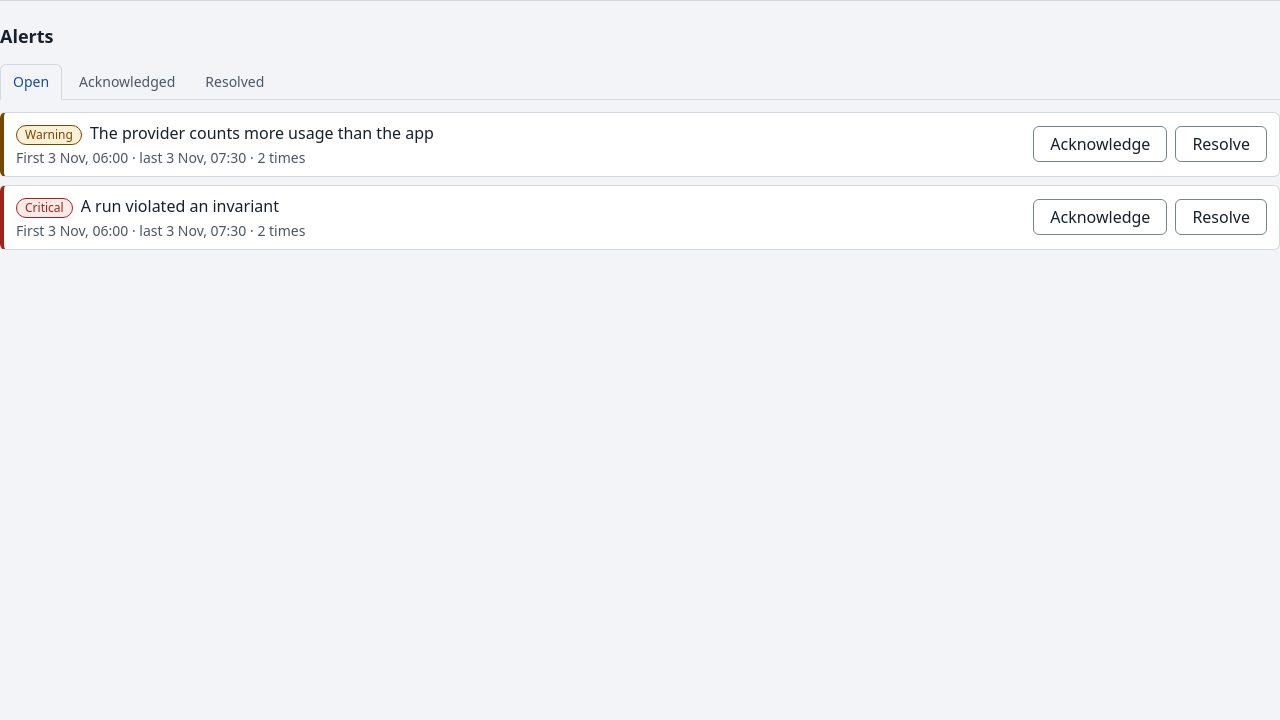
Test case: AlertsList › an acknowledged or resolved alert hands the focus to the alerts' heading, as its buttons have gone
Click the button "Acknowledge" in the row of "Warning": x=1100, y=144 x1=1033 y1=126 x2=1167 y2=162
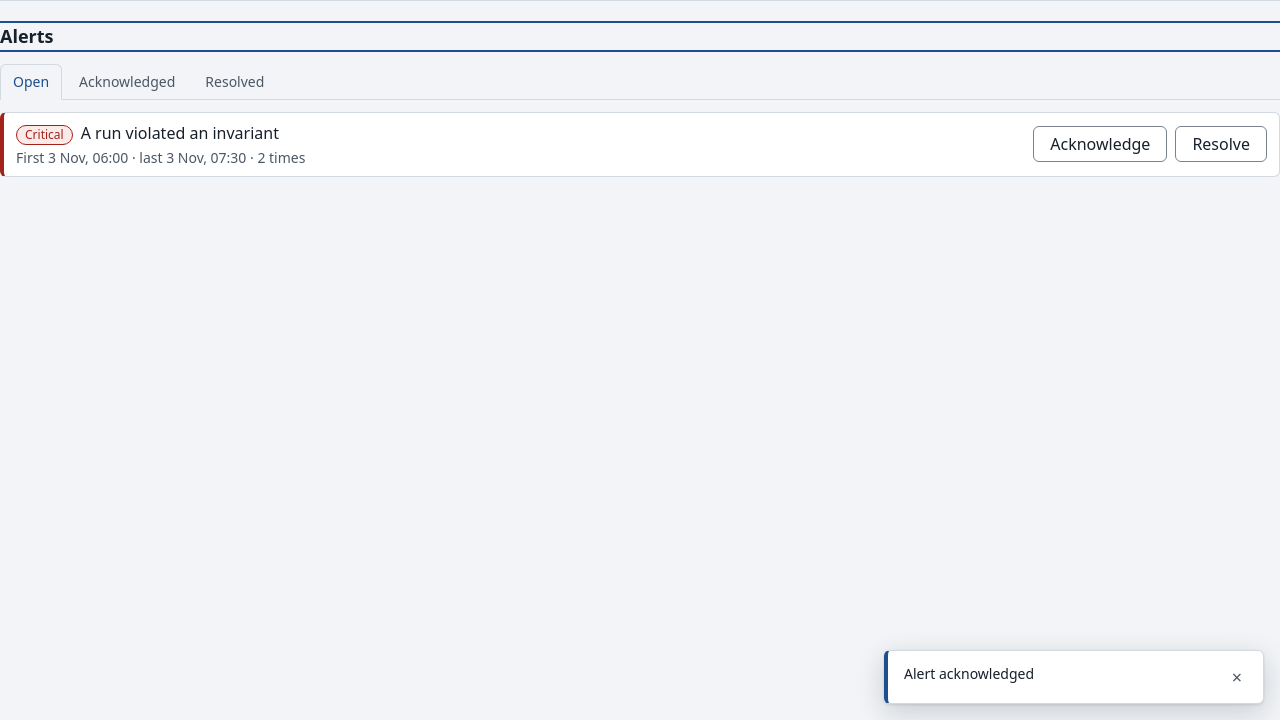
Click the button "Resolve": x=1221, y=144 x1=1175 y1=126 x2=1267 y2=162
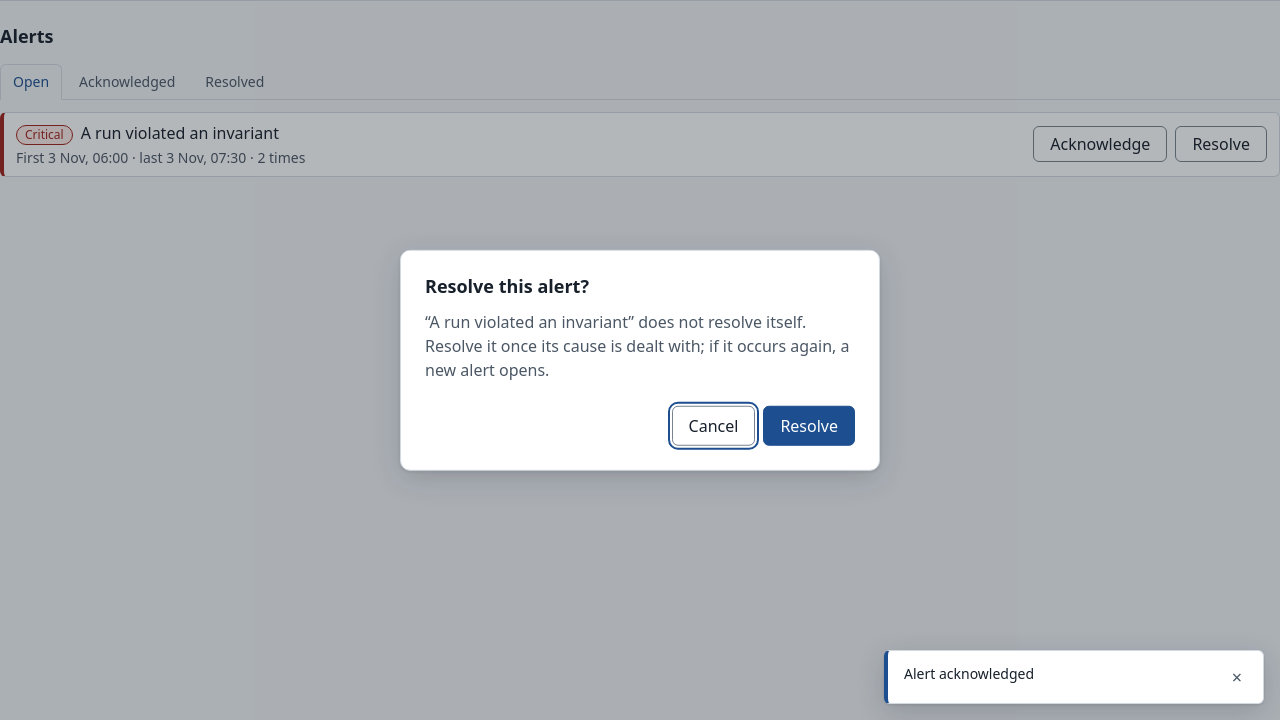
Click the button "Resolve": x=809, y=425 x1=763 y1=405 x2=855 y2=445
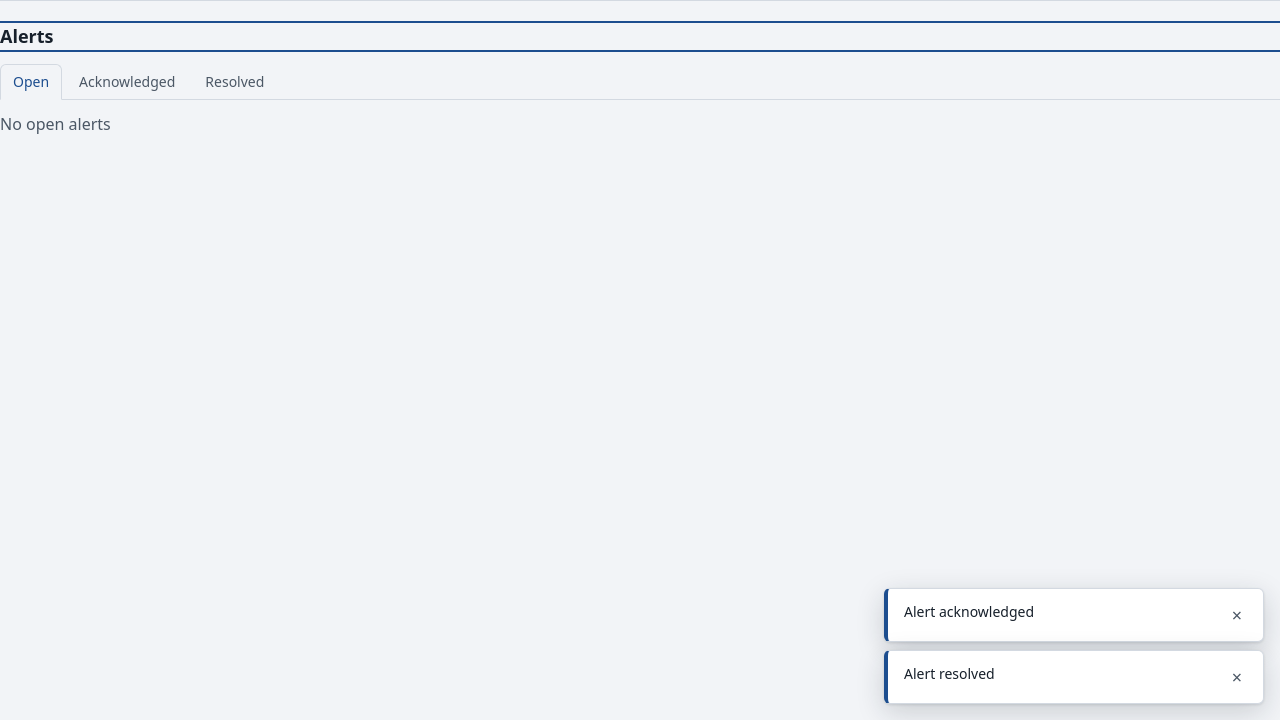
Result: the text "No open alerts" is shown at x1=0 y1=112 x2=111 y2=134
